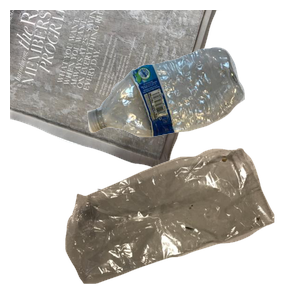glass: (94, 184, 253, 300)
paper: (10, 10, 222, 176)
plastic: (85, 45, 300, 175)
trash: (63, 145, 300, 300)
